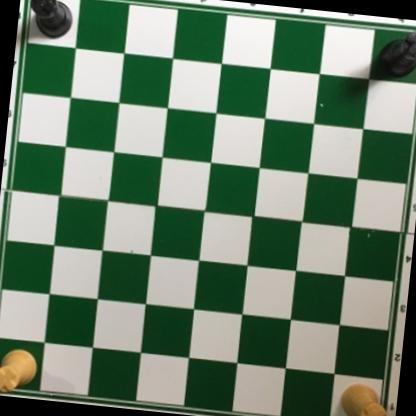black-rook: (376, 26, 416, 81), (26, 0, 78, 42)
white-rook: (0, 344, 43, 397), (337, 380, 390, 416)
